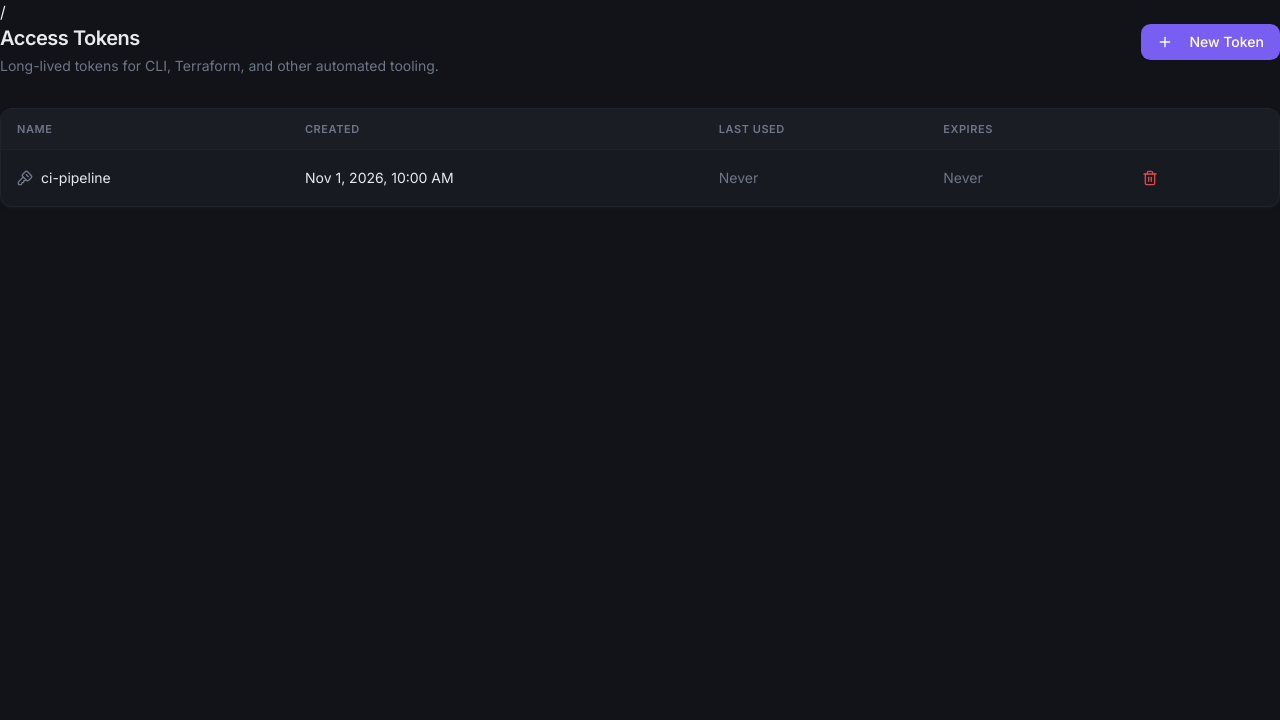
Scenario: AccessTokensPage › revokes a token after confirmation
Later steps or results of the test are not shown.
What coordinates should you click on to do the following:
click the button named "revoke ci-pipeline"
I would click on:
 (1150, 178)
Its box is [1130,162,1170,194].
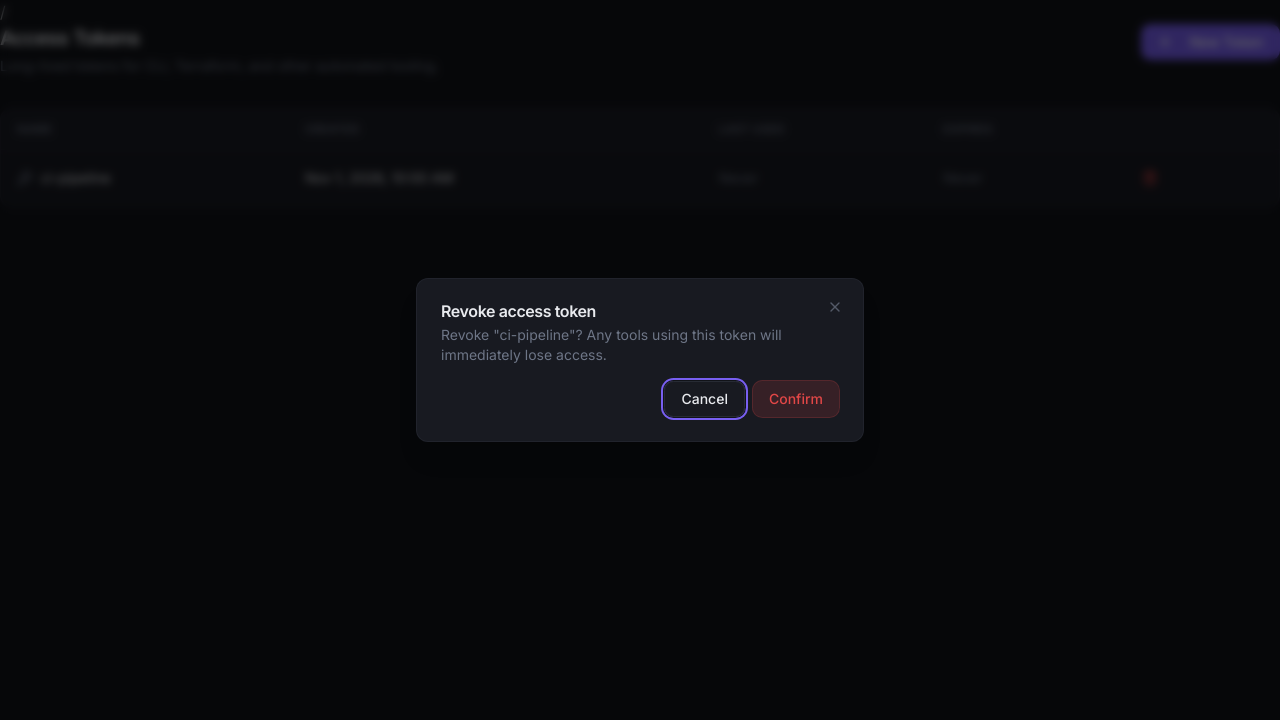
Check: the dialog "Revoke access token" shows "ci-pipeline", box [441,326,782,363]
